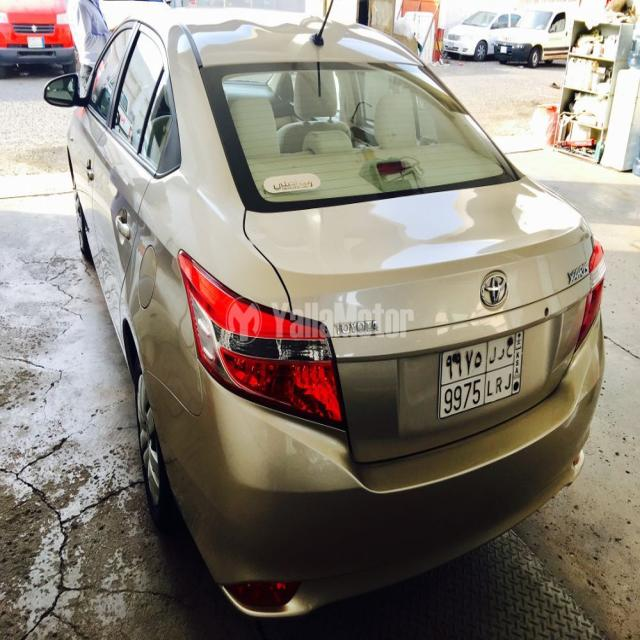license_plate: (436, 325, 526, 424)
